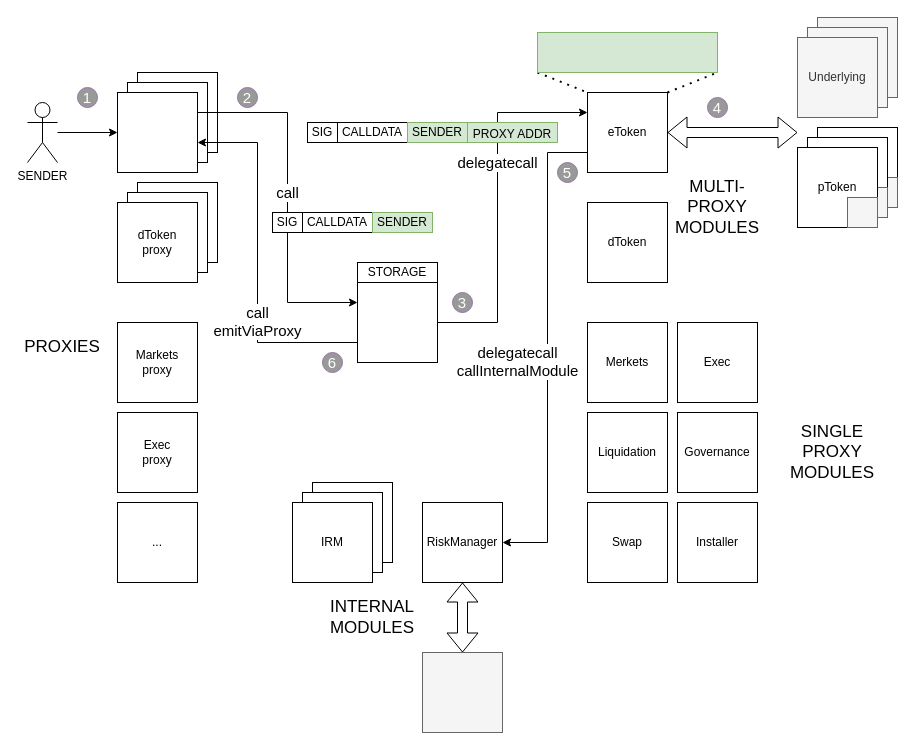
The diagram is 915 pixels wide and 750 high, and some of its shapes have lost their labels. The centre of each missing label's shape, as x and y in pixels:
eToken proxy: (157,132)
Euler: (397,322)
Uniswap V3 oracles: (462,692)
unpackTrailingParams unpactTrailingParamsMsgSender: (627,52)
